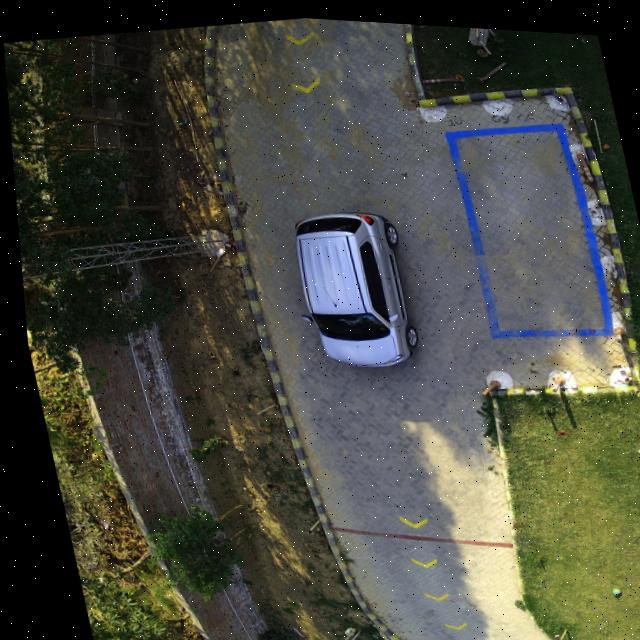car: (290, 206, 413, 363)
